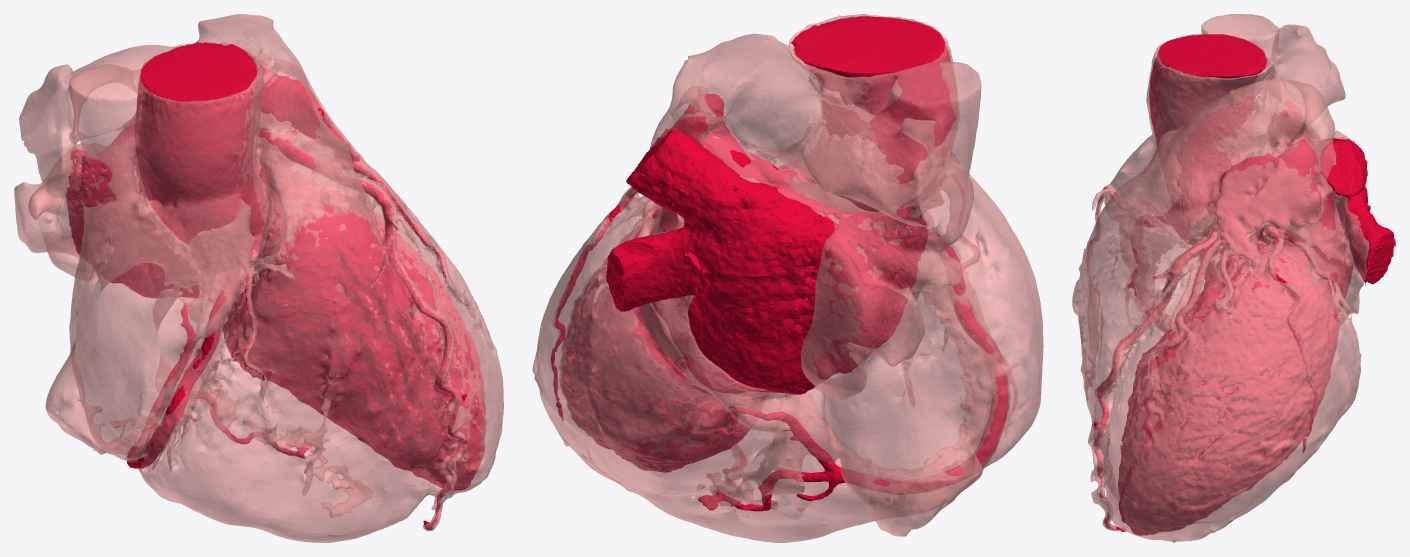
File: heart.glb
3 renders of one model, left to right at view 1: azimuth 30°, elevation 25°; view 2: azimuth 150°, elevation 25°; view 3: azimuth 270°, elevation 25°, orthographic. The views are drawn at different scales.
Parts seen in each view (by area): view 1: Shape_IndexedFaceSet.001, Shape_IndexedFaceSet; view 2: Shape_IndexedFaceSet.001, Shape_IndexedFaceSet; view 3: Shape_IndexedFaceSet.001, Shape_IndexedFaceSet.
Part boxes in pixels (x1,y1,x2,y2): Shape_IndexedFaceSet.001: (14, 14, 503, 542); Shape_IndexedFaceSet: (65, 42, 485, 529); Shape_IndexedFaceSet.001: (532, 14, 1043, 542); Shape_IndexedFaceSet: (550, 16, 1008, 511); Shape_IndexedFaceSet.001: (1072, 14, 1369, 542); Shape_IndexedFaceSet: (1086, 34, 1395, 535).
Size of the model in its own units: 131 by 144 by 103.
